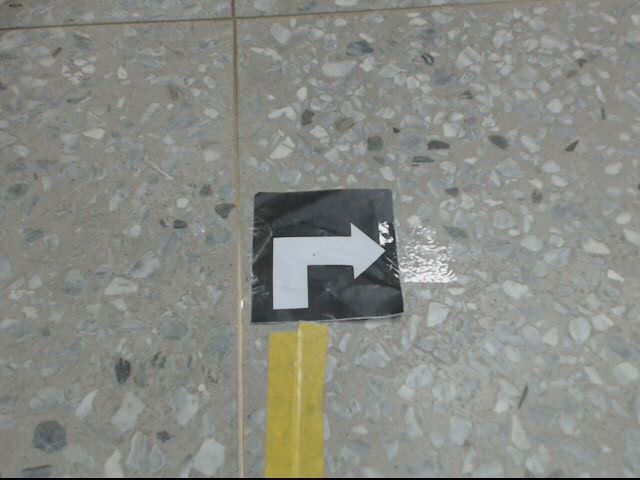right: (251, 189, 406, 323)
